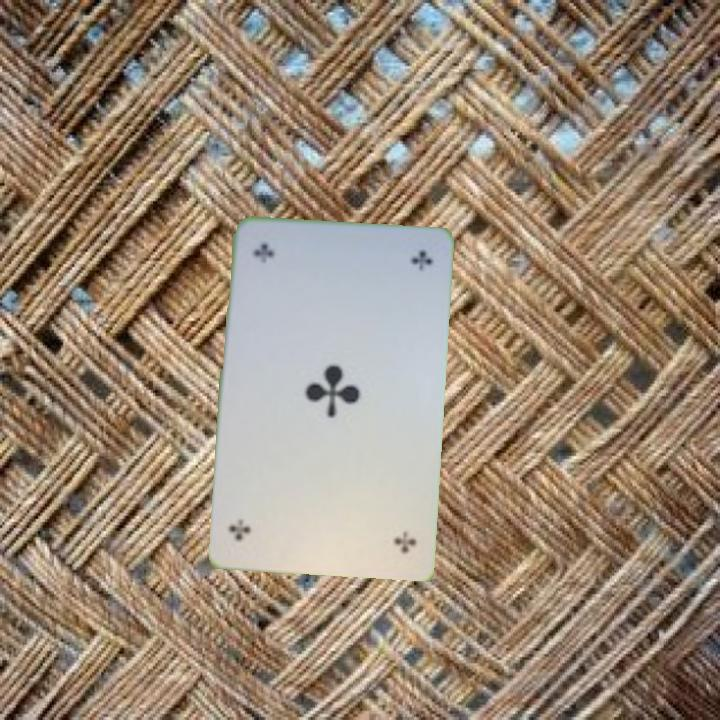c_a.png: (319, 473, 423, 565), (239, 232, 344, 323)
